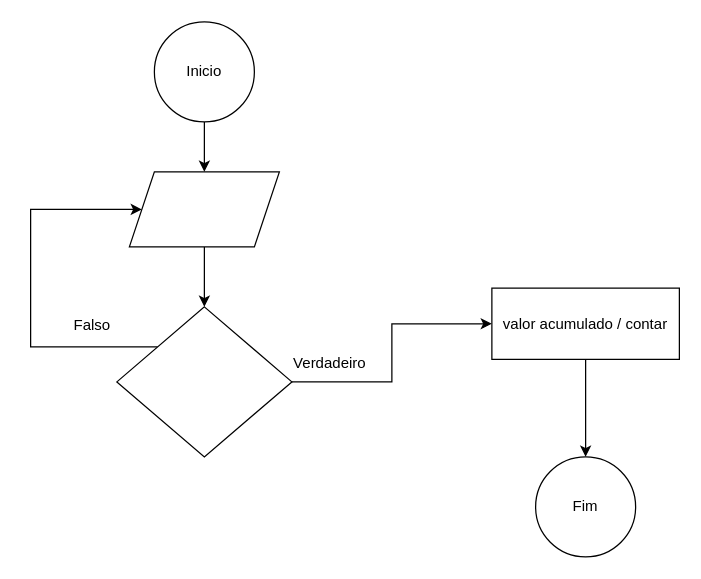
Image size: 701x579. Some labels were removed from this diagram. The centre of each missing label's shape, as x and y in pixels:
"Contar=NR+1 Valor acumulado>1000" goes at point 204,381.
"Ler NR" goes at point 203,209.
